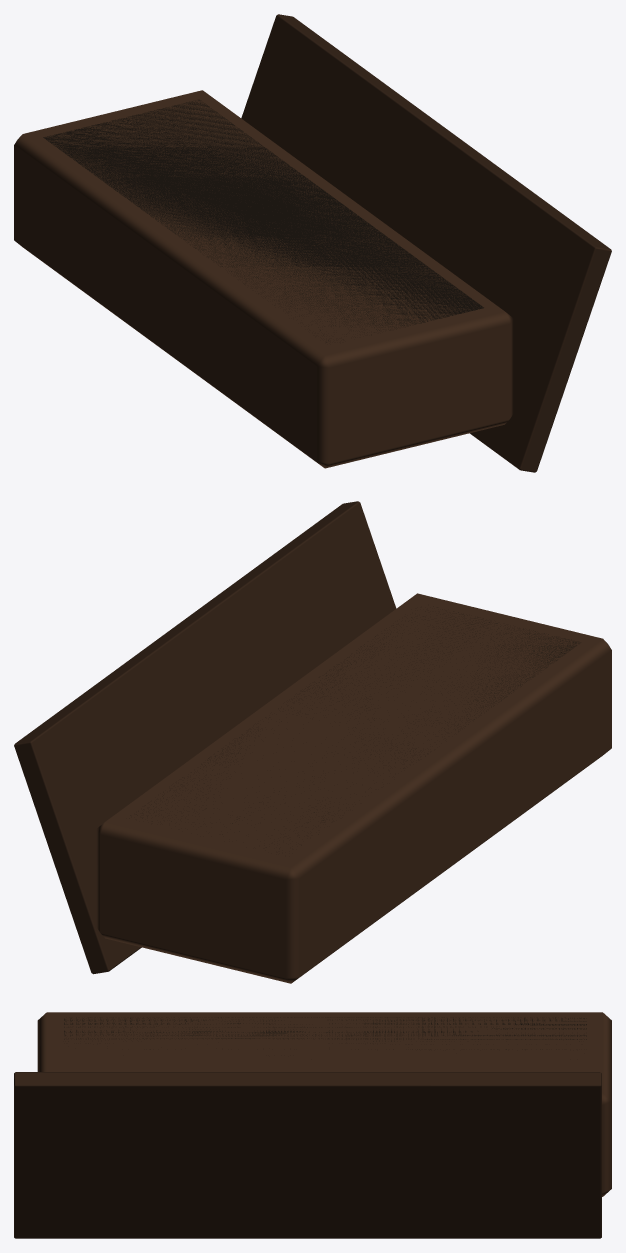
The model's file is coffin-open.e5c0b3d5.glb.
3 views of the same model, one above another, from view 1: azimuth 30°, elevation 25°; view 2: azimuth 150°, elevation 25°; view 3: azimuth 270°, elevation 25° (orthographic). The views are drawn at different scales.
Visible parts, largest first — view 1: body; view 2: body; view 3: body.
Part boxes in pixels (x1,y1,x2,y2): body: (14, 14, 611, 472); body: (14, 501, 611, 983); body: (14, 1012, 611, 1238).
Size of the model in its own units: 0.8758 by 0.6334 by 1.77.
